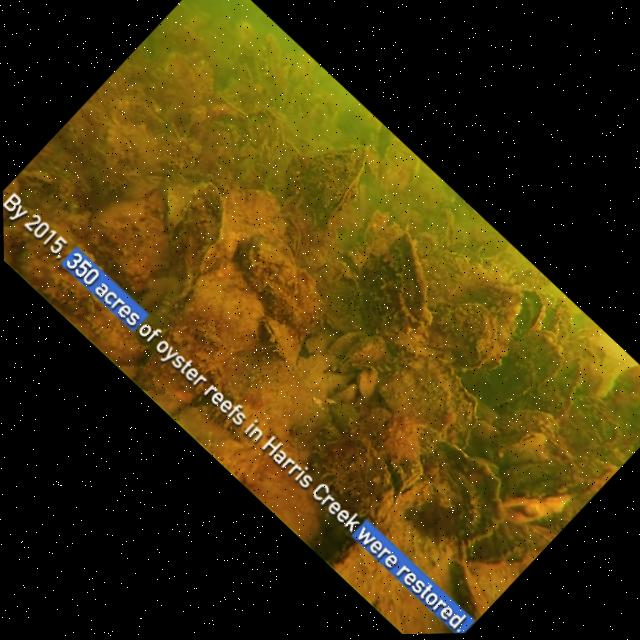Oyster-Closed: (275, 125, 385, 235), (486, 415, 555, 485)
Oyster-Indeterminate: (3, 201, 175, 378), (273, 415, 421, 564), (359, 326, 502, 467), (394, 425, 527, 557), (137, 176, 253, 293), (411, 272, 522, 383), (172, 262, 279, 369), (206, 165, 303, 262), (223, 222, 311, 309), (447, 258, 532, 340), (493, 464, 575, 545), (80, 179, 157, 256), (148, 42, 225, 118), (185, 112, 260, 187), (503, 321, 578, 396), (494, 383, 569, 457), (551, 434, 625, 508), (429, 548, 503, 622), (329, 319, 400, 391), (475, 347, 542, 415), (235, 97, 300, 162), (199, 79, 261, 141), (457, 405, 514, 463), (503, 281, 560, 339), (235, 136, 289, 190), (118, 166, 165, 212), (327, 321, 371, 366), (298, 322, 340, 364), (95, 160, 134, 200), (352, 363, 388, 399)
Oyster-Open: (334, 226, 465, 357), (583, 353, 640, 450), (248, 310, 314, 376), (182, 356, 238, 411), (266, 210, 319, 264), (17, 158, 60, 202)
